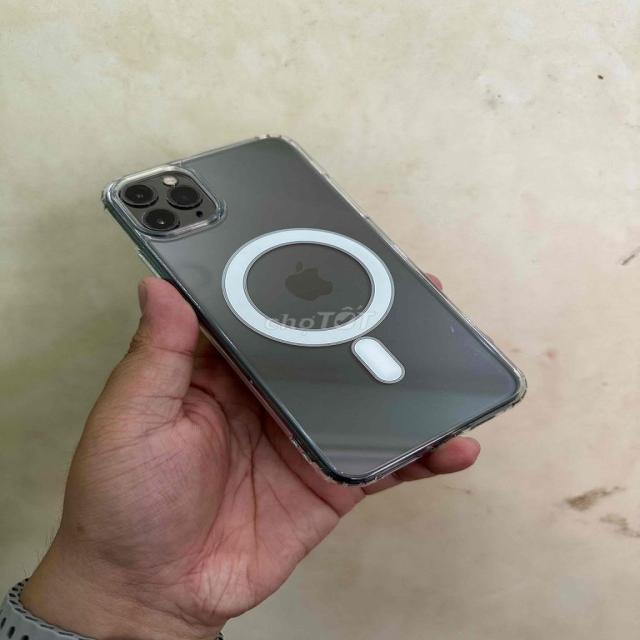gen_11: (102, 127, 532, 490)
